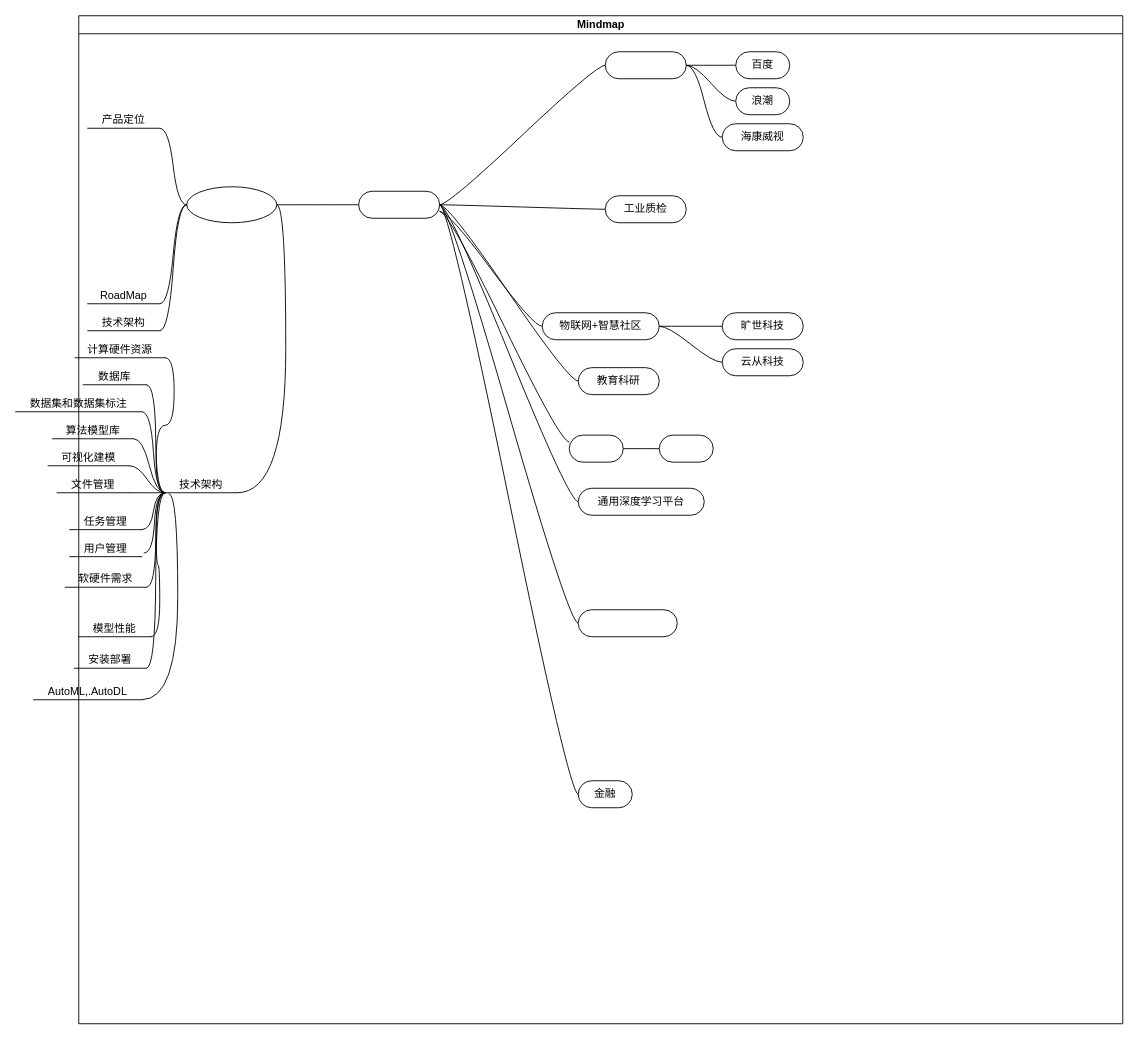
This 1139x1040 diagram has some shape labels left out. Each missing label, with the box of its shape:
Central Idea: (186, 186, 277, 223)
依图: (658, 434, 713, 462)
公有云AI平台: (577, 609, 677, 637)
医疗: (568, 434, 623, 462)
电力能源: (604, 51, 686, 79)
行业领域: (358, 190, 440, 218)
